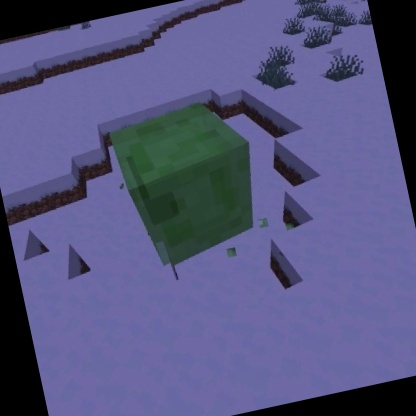slime: (102, 89, 275, 277)
